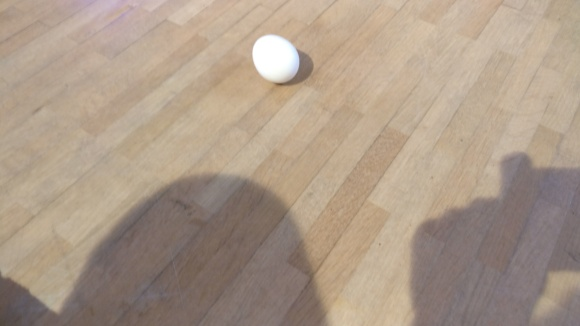egg: (252, 33, 301, 86)
